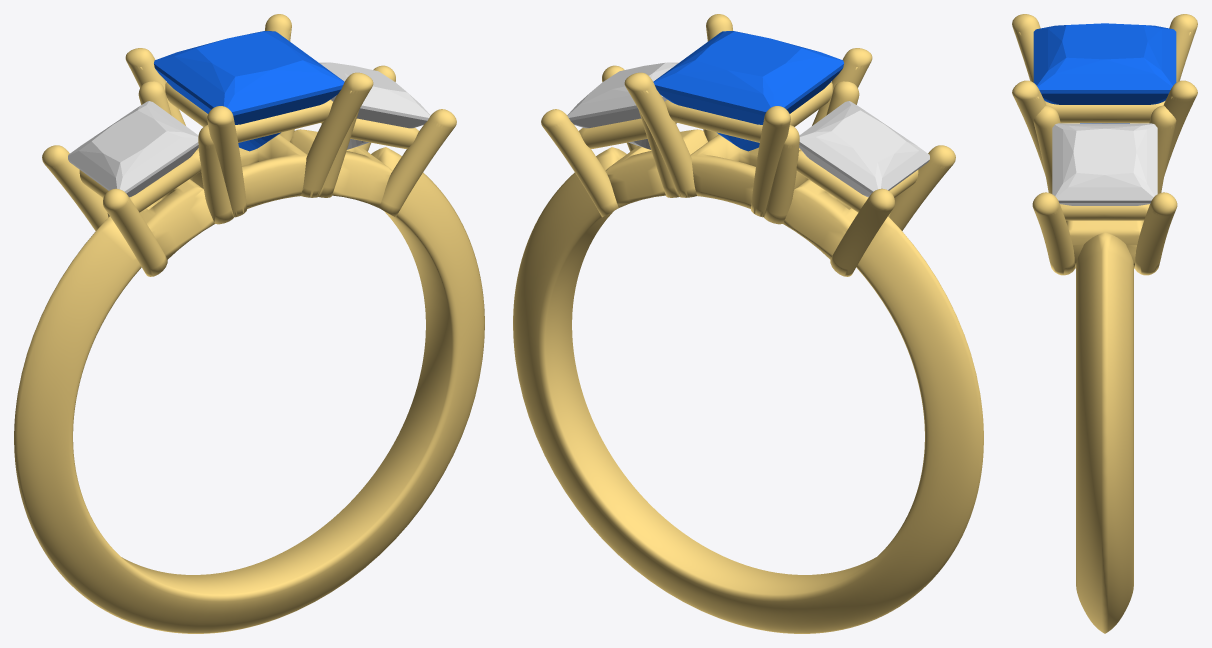
File: bluesapphire-princess-yellowgold-4prong-knifeedge-3stone.glb
3 views of the same model, side by side, from view 1: azimuth 30°, elevation 25°; view 2: azimuth 150°, elevation 25°; view 3: azimuth 270°, elevation 25° (orthographic).
Parts seen in each view (by area): view 1: metal, stone, side, side.001; view 2: metal, stone, side, side.001; view 3: metal, stone, side.001.
Boxes of the visible parts, box(x1,y1,x2,y2) form: metal: box(14, 14, 484, 633); stone: box(154, 31, 344, 151); side: box(68, 101, 198, 197); side.001: box(319, 62, 430, 149); metal: box(513, 14, 983, 633); stone: box(653, 31, 843, 151); side: box(799, 101, 929, 197); side.001: box(567, 62, 678, 149); metal: box(1012, 14, 1197, 633); stone: box(1033, 23, 1176, 123); side.001: box(1052, 123, 1157, 205).
Size of the model in its own units: 20.5 by 23.85 by 7.08.
